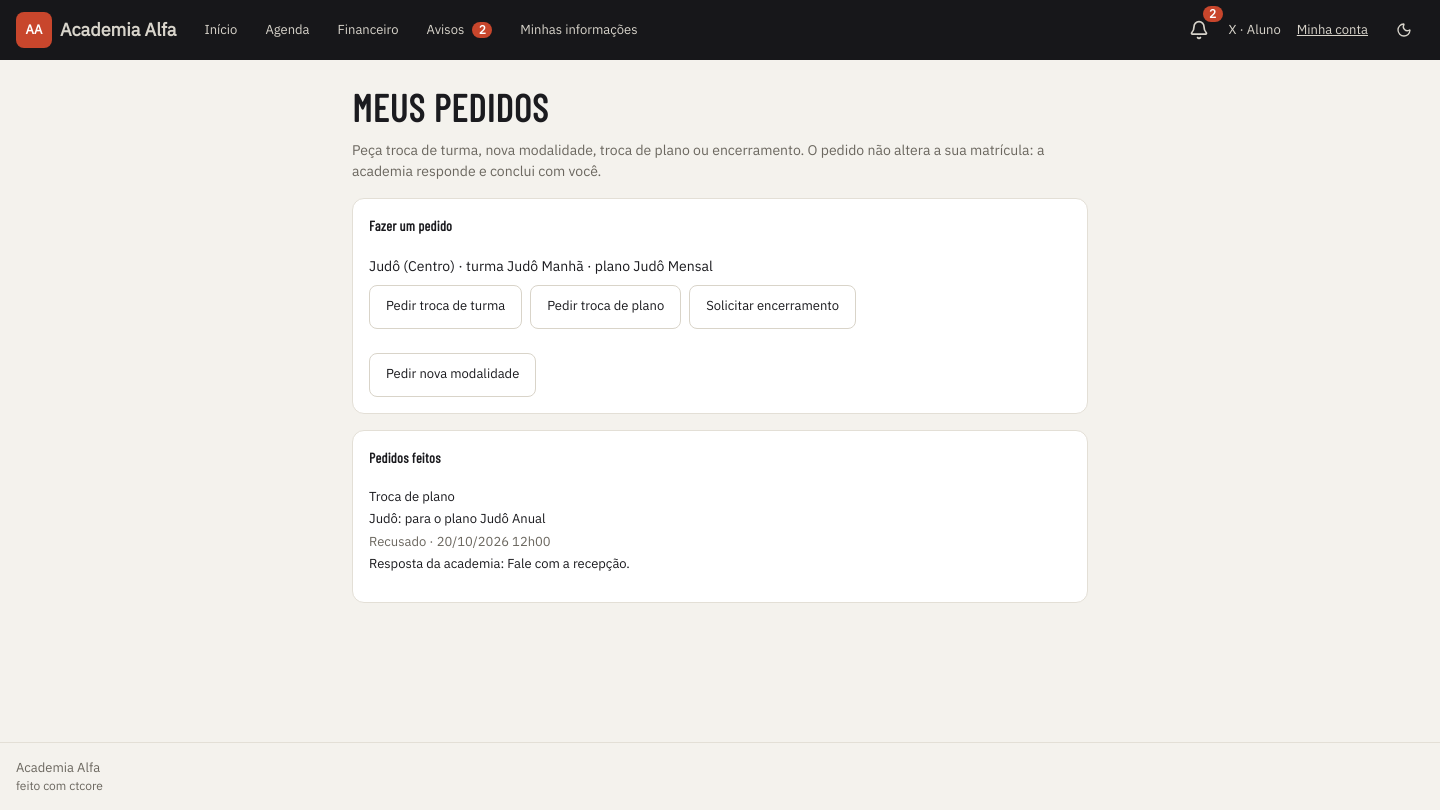
Scenario: PortalRequestsPage do portal (RF-MAT-04) › 409 mostra o aviso na janela e não fecha
Click the button "Pedir troca de plano" at (606, 306), box x1=530 y1=284 x2=681 y2=328
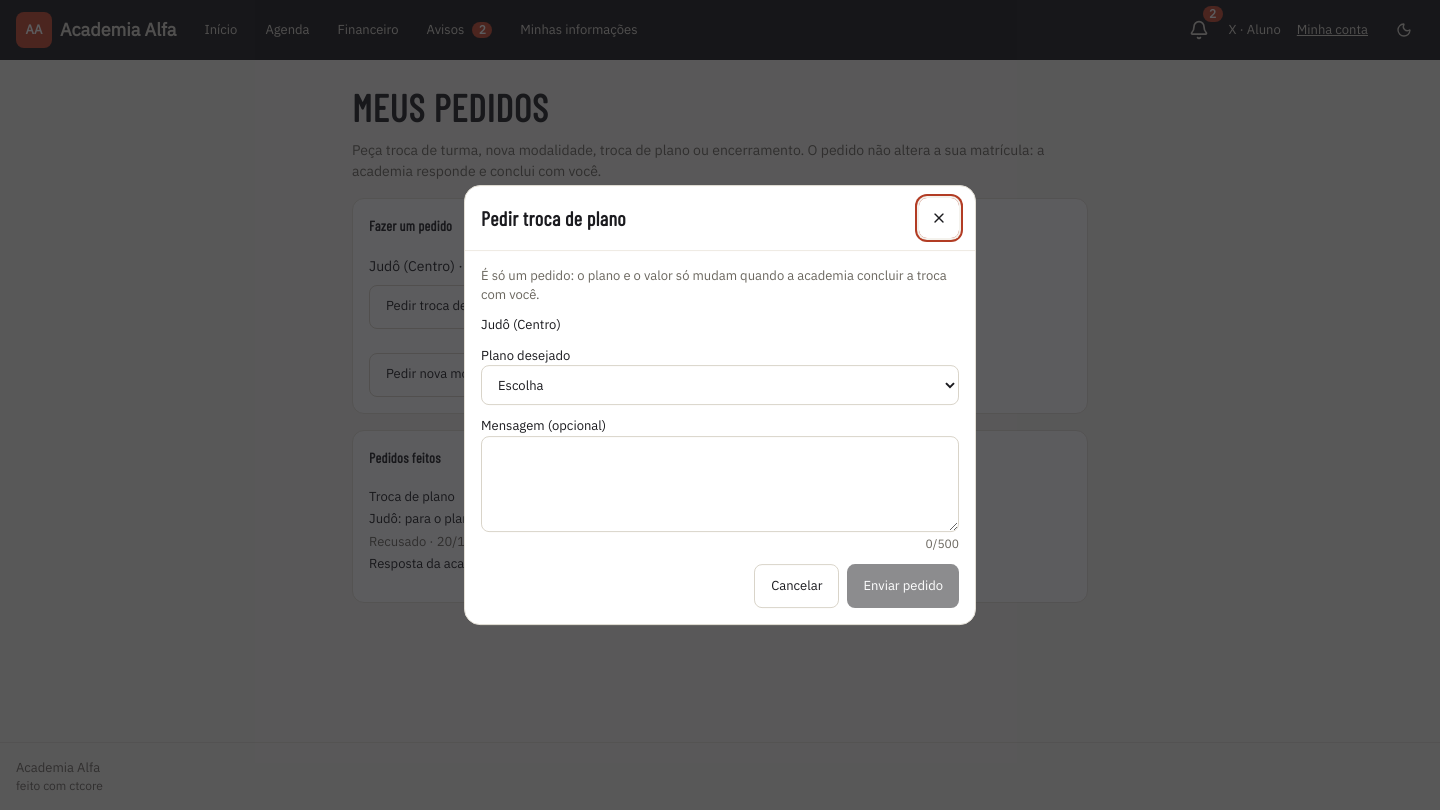
Select "Judô Anual" in the dropdown labelled "Plano desejado" at (720, 385), box x1=481 y1=365 x2=959 y2=405
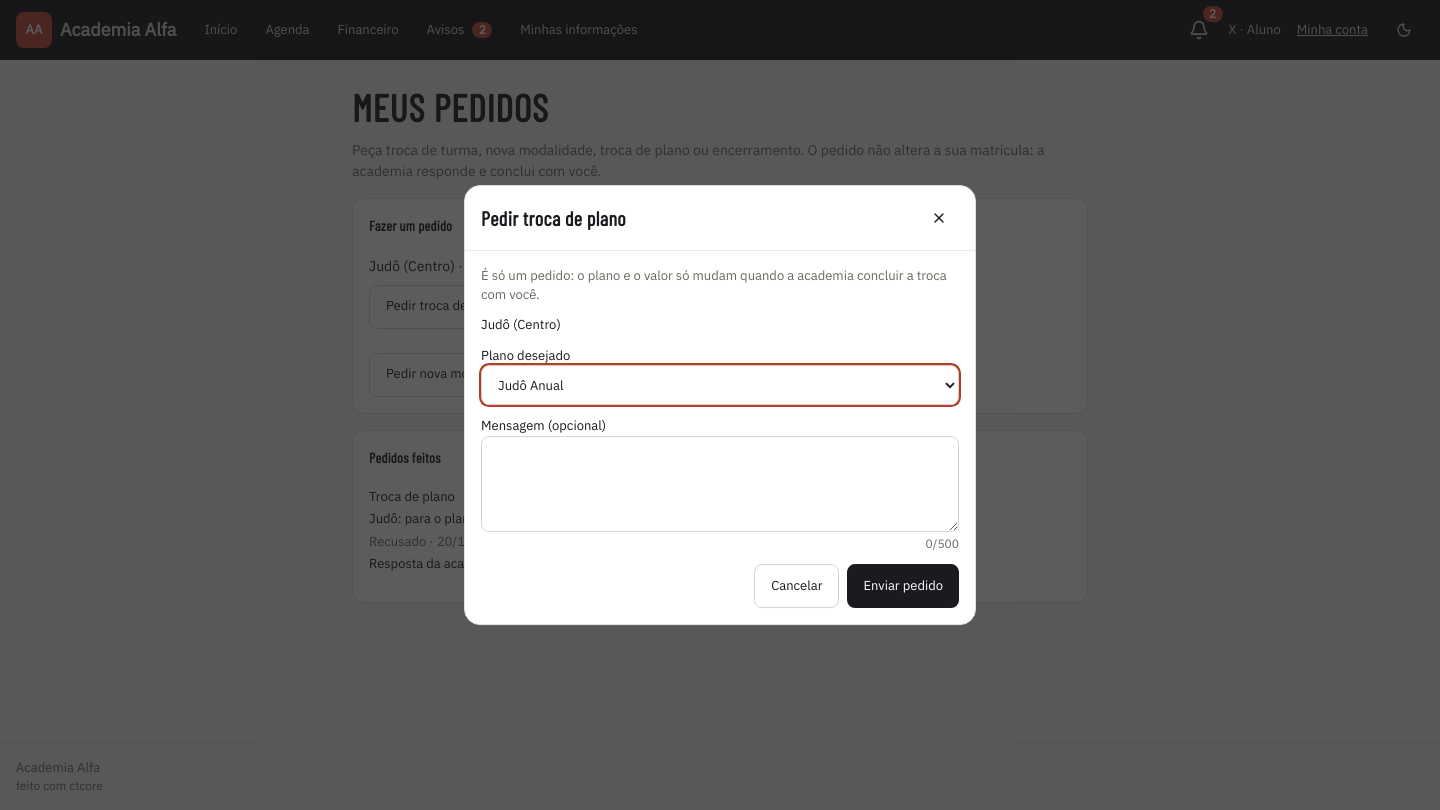
Click the button "Enviar pedido" at (903, 586), box x1=847 y1=564 x2=959 y2=608
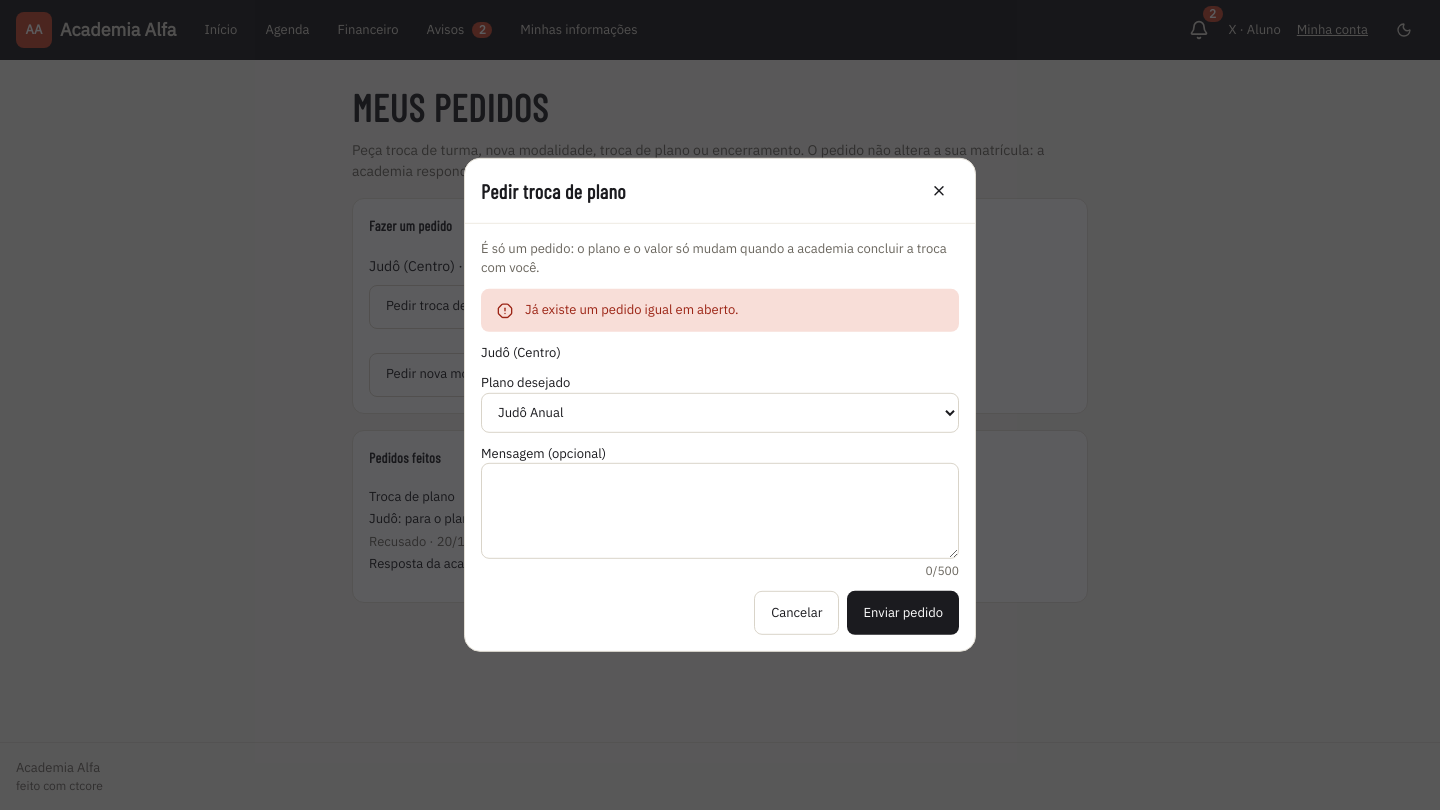
Result: the message reads "Já existe um pedido igual em aberto." at x1=525 y1=301 x2=739 y2=318
